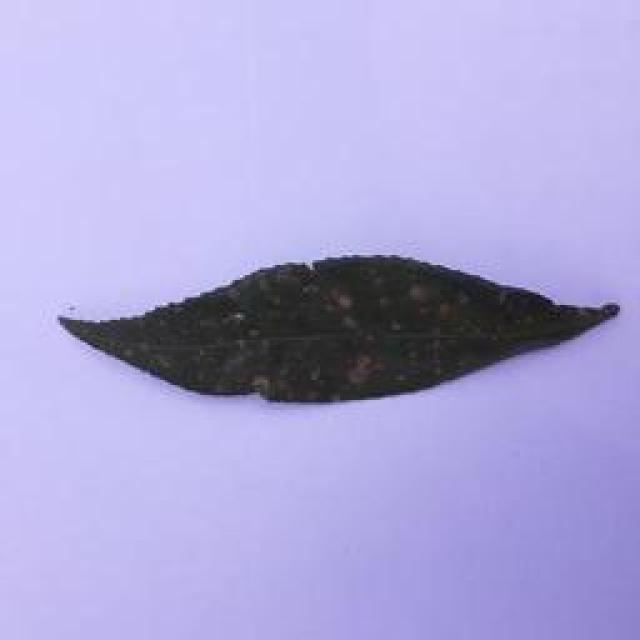Algal Leaf Spot: (49, 237, 636, 431)
